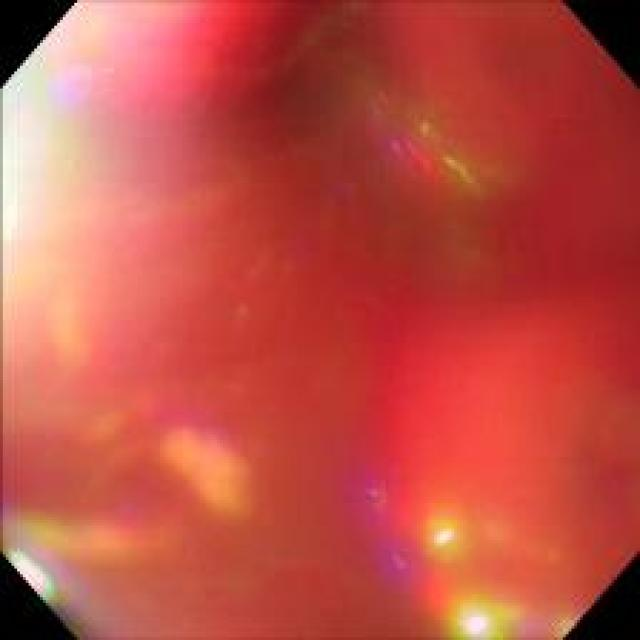color misalignment: (9, 5, 631, 624), (369, 91, 491, 201), (350, 452, 420, 589), (416, 498, 471, 572), (439, 596, 516, 632)
